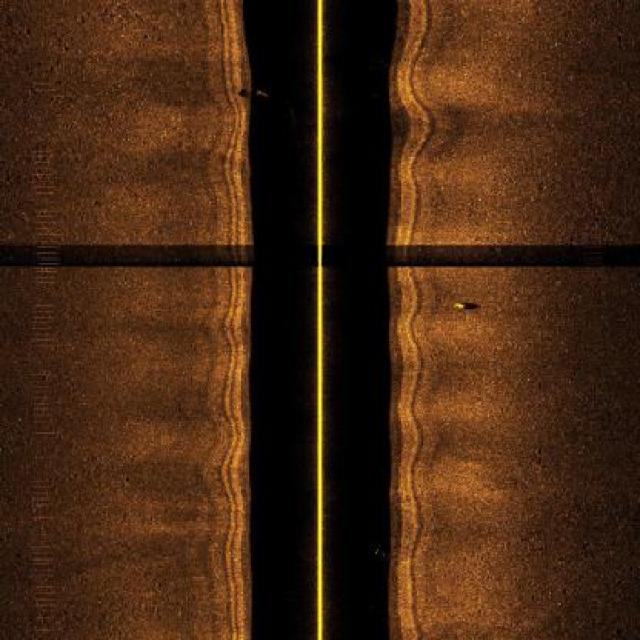mine: (449, 298, 485, 316)
other: (235, 86, 270, 102)
